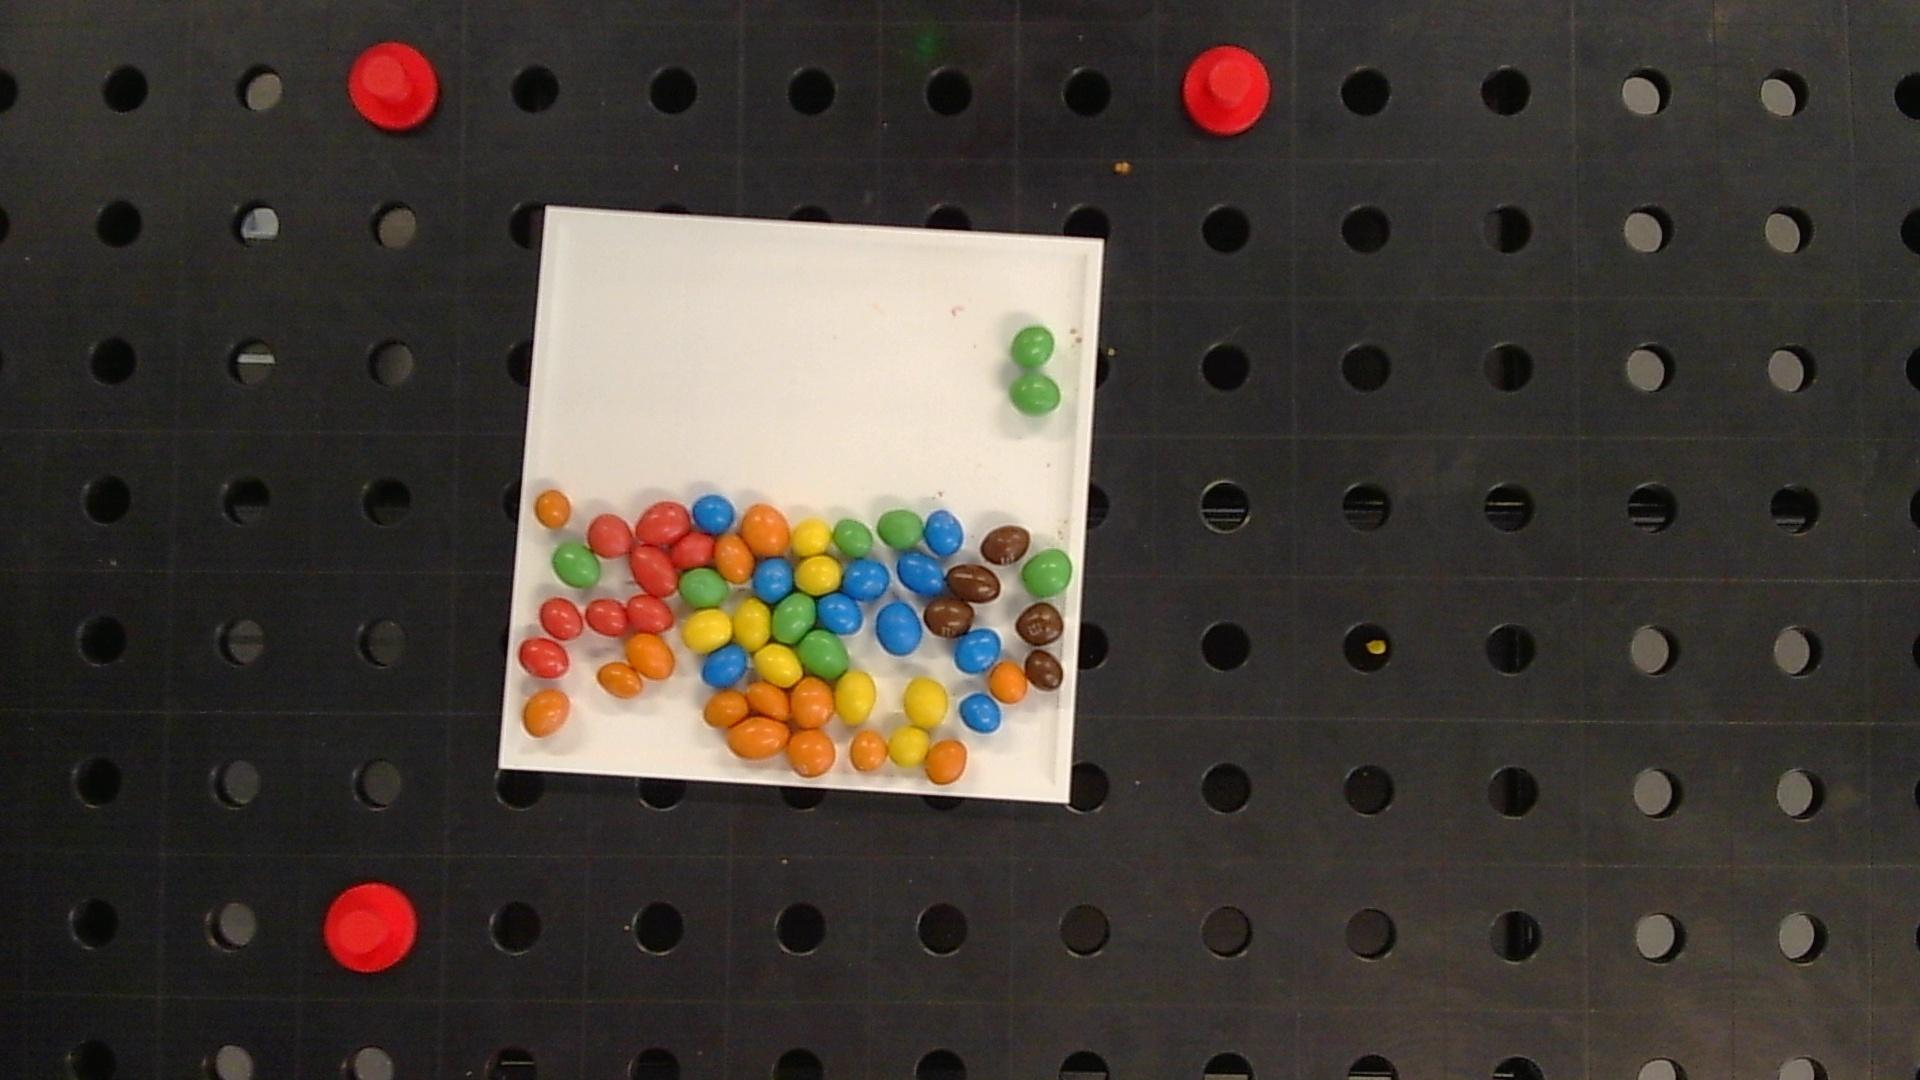blue: (877, 603, 923, 654), (955, 629, 1001, 674), (818, 591, 864, 633), (898, 553, 944, 595), (843, 559, 889, 600), (703, 646, 748, 687), (924, 510, 964, 555), (960, 694, 1002, 733), (754, 556, 793, 600), (692, 495, 735, 533)
brown: (1015, 603, 1064, 646), (945, 564, 1001, 601), (980, 525, 1030, 564), (924, 599, 973, 638), (1025, 651, 1064, 690)
green: (799, 630, 848, 678), (1022, 550, 1072, 596), (1010, 372, 1062, 415), (553, 542, 600, 588), (773, 592, 815, 642), (679, 568, 728, 607), (878, 509, 924, 549), (1010, 327, 1055, 367), (833, 518, 874, 558)
orange: (727, 716, 790, 758), (741, 504, 790, 555), (626, 633, 675, 679), (524, 690, 571, 736), (790, 679, 835, 728), (790, 732, 835, 777), (713, 534, 754, 583), (926, 740, 967, 783), (704, 690, 749, 728), (597, 661, 644, 698), (989, 661, 1027, 703), (849, 731, 887, 771), (748, 682, 790, 719), (534, 489, 571, 527)
red: (630, 543, 676, 596), (636, 501, 690, 543), (518, 638, 570, 678), (587, 513, 633, 555), (626, 595, 674, 632), (541, 599, 583, 640), (585, 599, 629, 636), (671, 531, 713, 564)
yellow: (682, 609, 732, 653), (835, 671, 876, 724), (905, 678, 948, 727), (753, 645, 804, 684), (733, 599, 770, 649), (795, 555, 841, 593), (886, 725, 928, 766), (791, 517, 832, 555)
